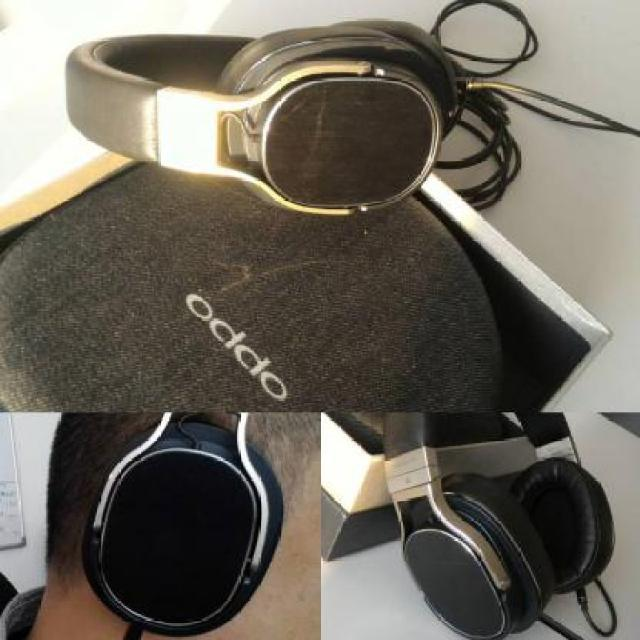earphone: (38, 10, 535, 237), (378, 398, 624, 630), (75, 398, 285, 640)
